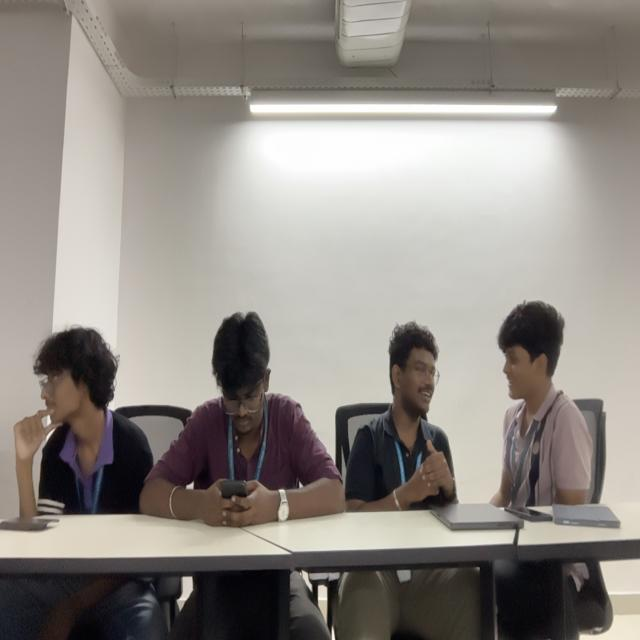Isolated: (164, 318, 346, 528), (17, 333, 141, 500)
socializing: (352, 303, 596, 512)
